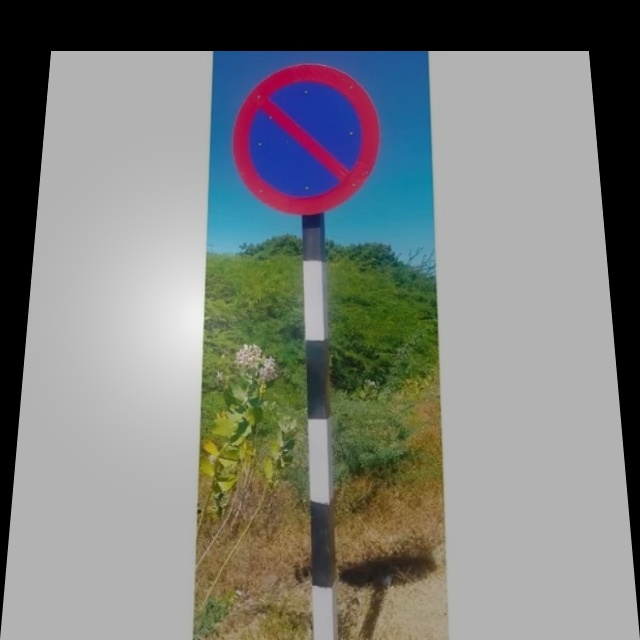No_Stopping_or_Standing: (238, 64, 374, 213)
